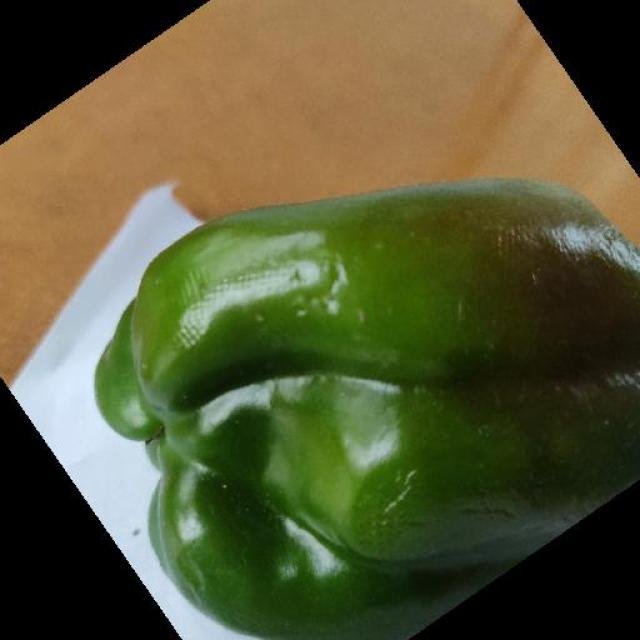Stale_Capsicum: (113, 167, 640, 546)
